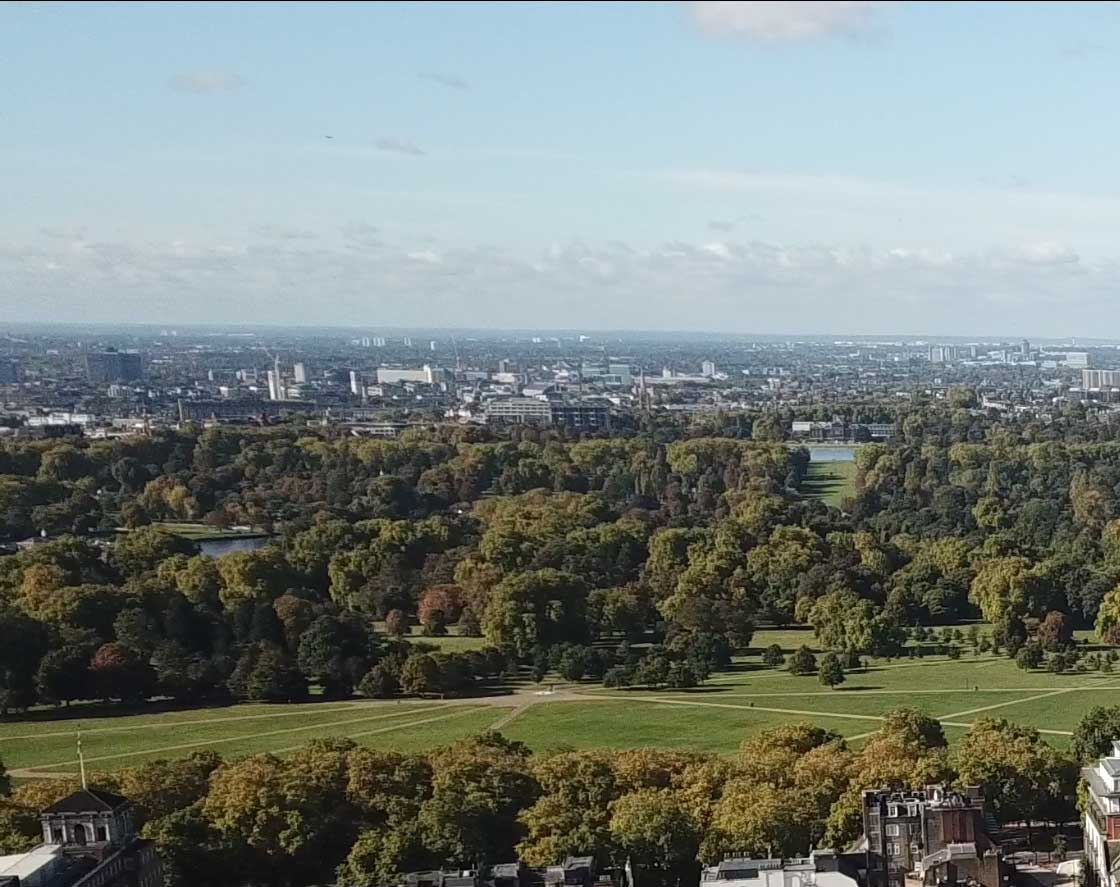trees: (6, 424, 784, 658), (164, 755, 853, 838), (849, 425, 1119, 623)
